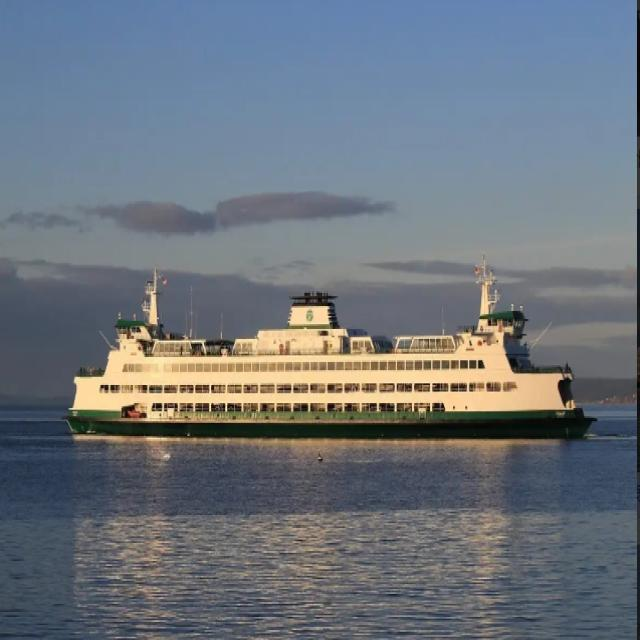passenger ship: (68, 240, 582, 460)
